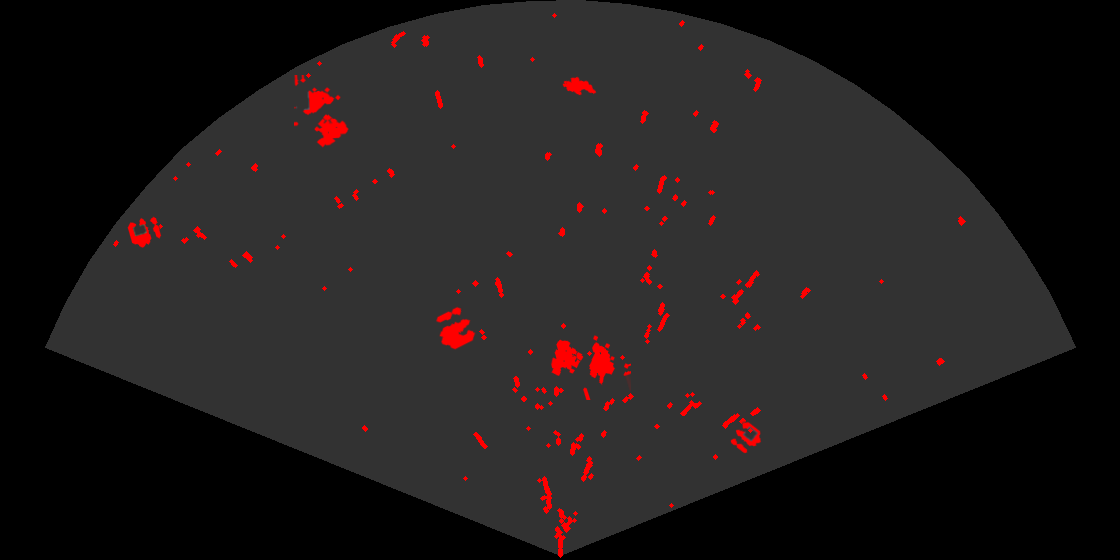AUV: (561, 75, 598, 97)
ball: (434, 305, 477, 351), (126, 215, 163, 249), (729, 420, 763, 455)
cage: (549, 334, 631, 400), (294, 75, 350, 149)
